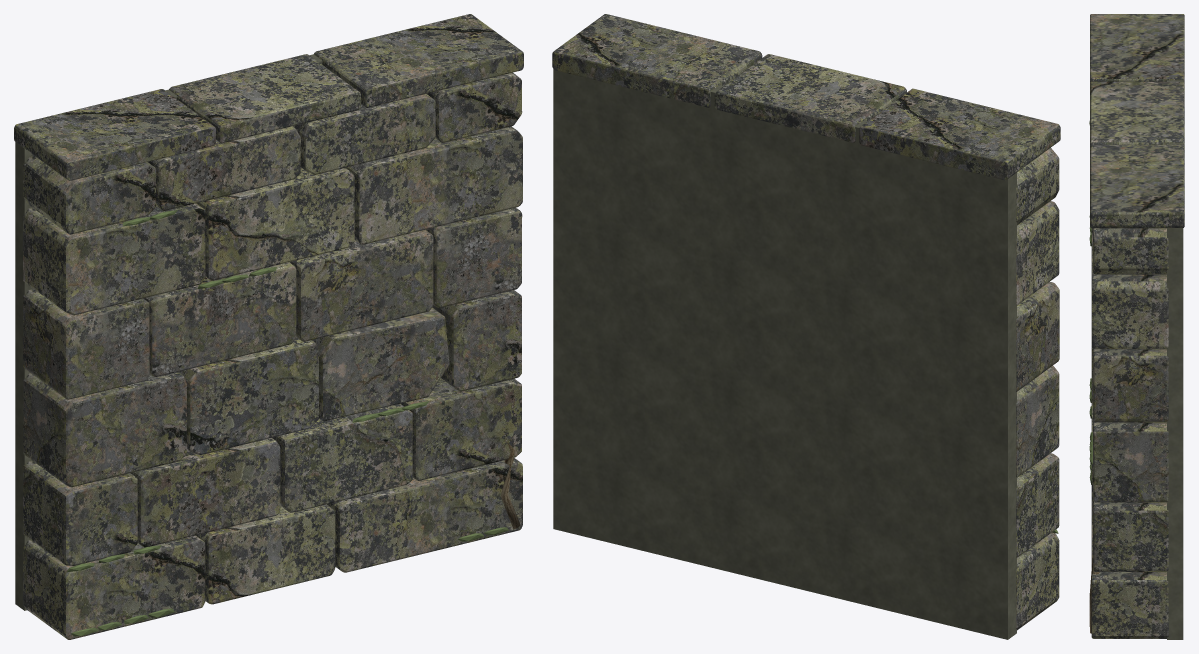
The model's file is mod_sacred_wall_4m.glb.
3 renders of one model, left to right at view 1: azimuth 30°, elevation 25°; view 2: azimuth 150°, elevation 25°; view 3: azimuth 270°, elevation 25°, orthographic. The views are drawn at different scales.
Visible parts, largest first — view 1: sacred_weathered_stone_surface, sacred_earth_mortar_surface, sacred_velvet_moss_surface; view 2: sacred_earth_mortar_surface, sacred_weathered_stone_surface; view 3: sacred_weathered_stone_surface, sacred_earth_mortar_surface, sacred_velvet_moss_surface, sacred_root_bark_surface.
Part boxes in pixels (left/top/right/bottom): sacred_weathered_stone_surface: left=14, top=14, right=523, bottom=639; sacred_earth_mortar_surface: left=15, top=54, right=322, bottom=610; sacred_velvet_moss_surface: left=67, top=210, right=508, bottom=636; sacred_earth_mortar_surface: left=553, top=69, right=1016, bottom=639; sacred_weathered_stone_surface: left=552, top=14, right=1060, bottom=630; sacred_weathered_stone_surface: left=1090, top=14, right=1184, bottom=638; sacred_earth_mortar_surface: left=1167, top=80, right=1183, bottom=639; sacred_velvet_moss_surface: left=1089, top=121, right=1092, bottom=484; sacred_root_bark_surface: left=1089, top=552, right=1099, bottom=633.
Size of the model in its own units: 4 by 4 by 0.806.
4 materials, 4 textured.
